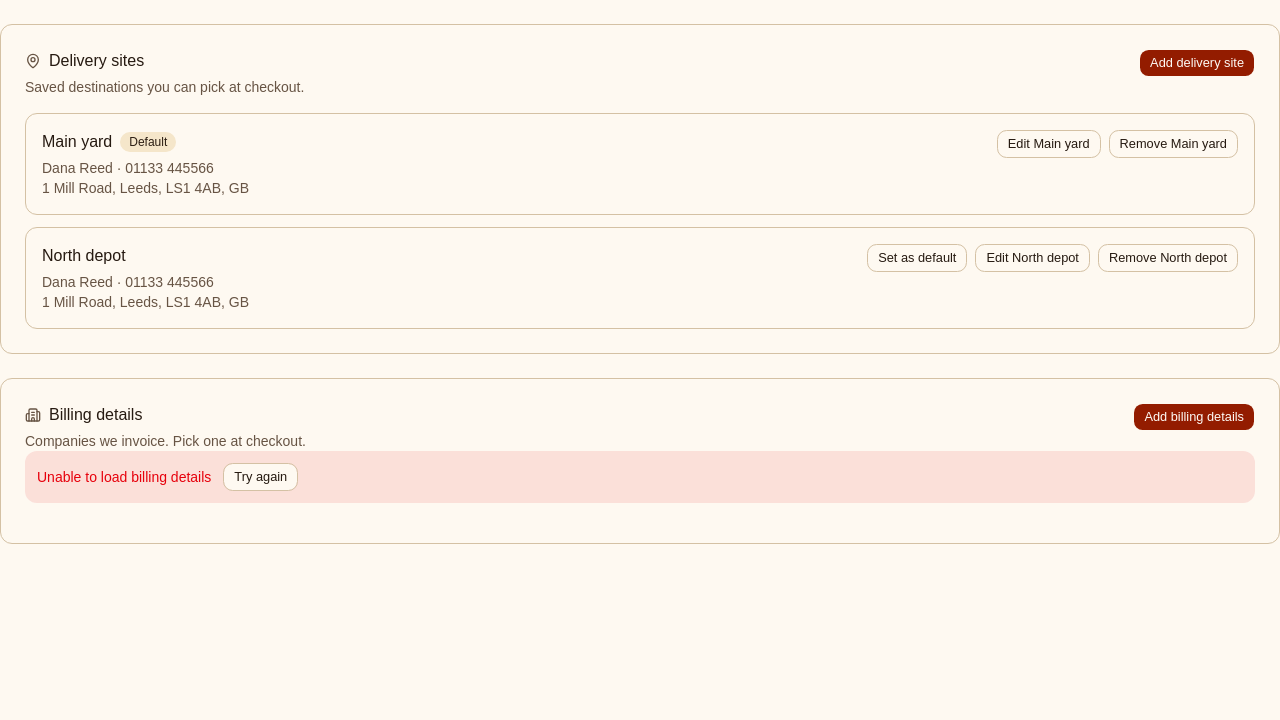
BillingEntitiesSection › shows a load failure with a working retry
The image size is (1280, 720).
Expected: the text "Unable to load billing details" is shown, [37,467,211,487]
Click the button "Try again" at (261, 477), box [223,463,298,491]
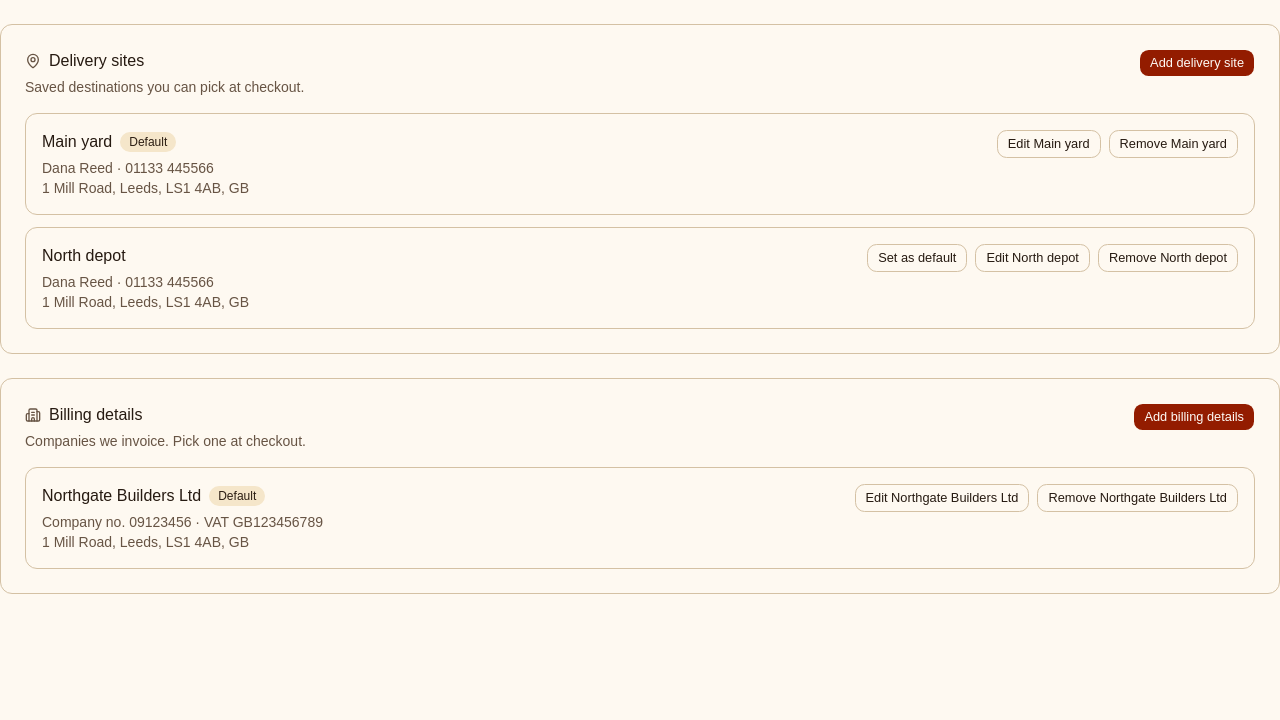
Result: the text "Northgate Builders Ltd" is shown at [42,484,201,508]
